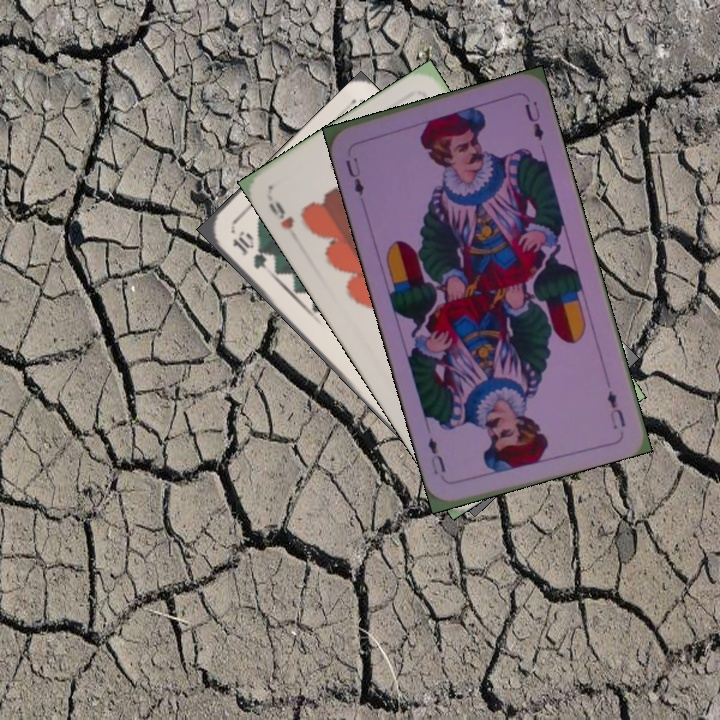EU: (341, 153, 367, 199), (603, 386, 628, 432)
G10: (228, 227, 274, 276)
H9: (264, 197, 297, 232)
